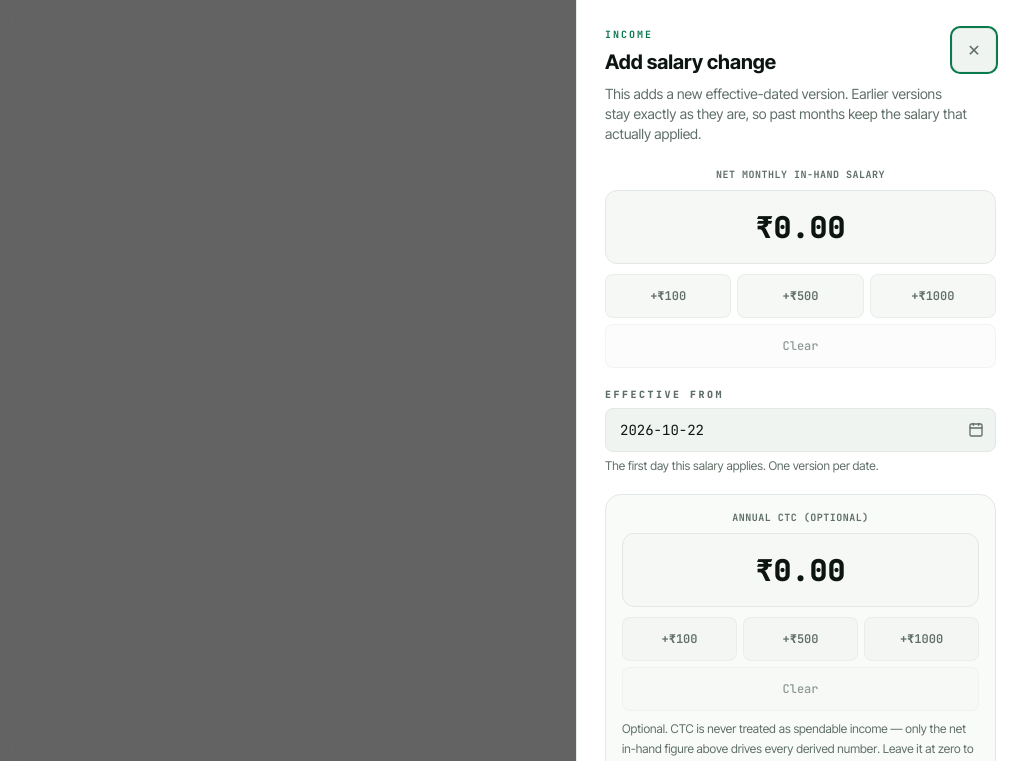
AddSalaryChangeSheet › shows a duplicate-effective-date problem on the date field and focuses it
This screenshot has width=1024, height=761.
Replace the text in the field labelled "Net monthly in-hand salary" with "14000": (800, 227) [605,190,996,264]
(page scrolled)
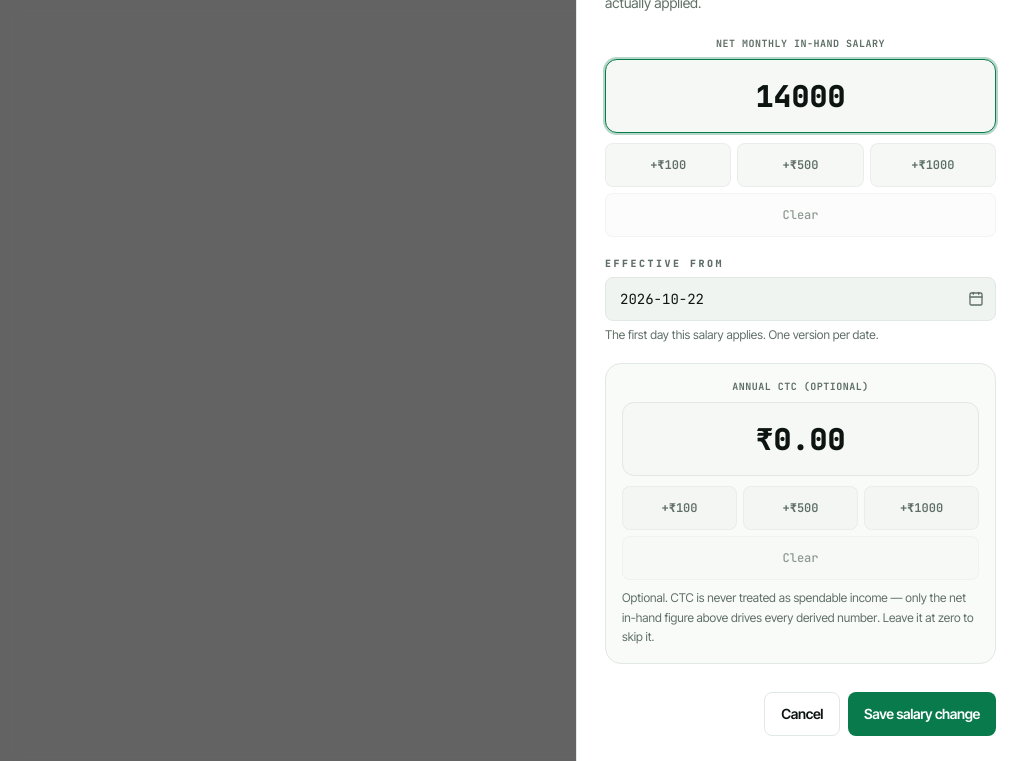
Click the button "Save salary change": click(922, 714) [848,692,996,736]
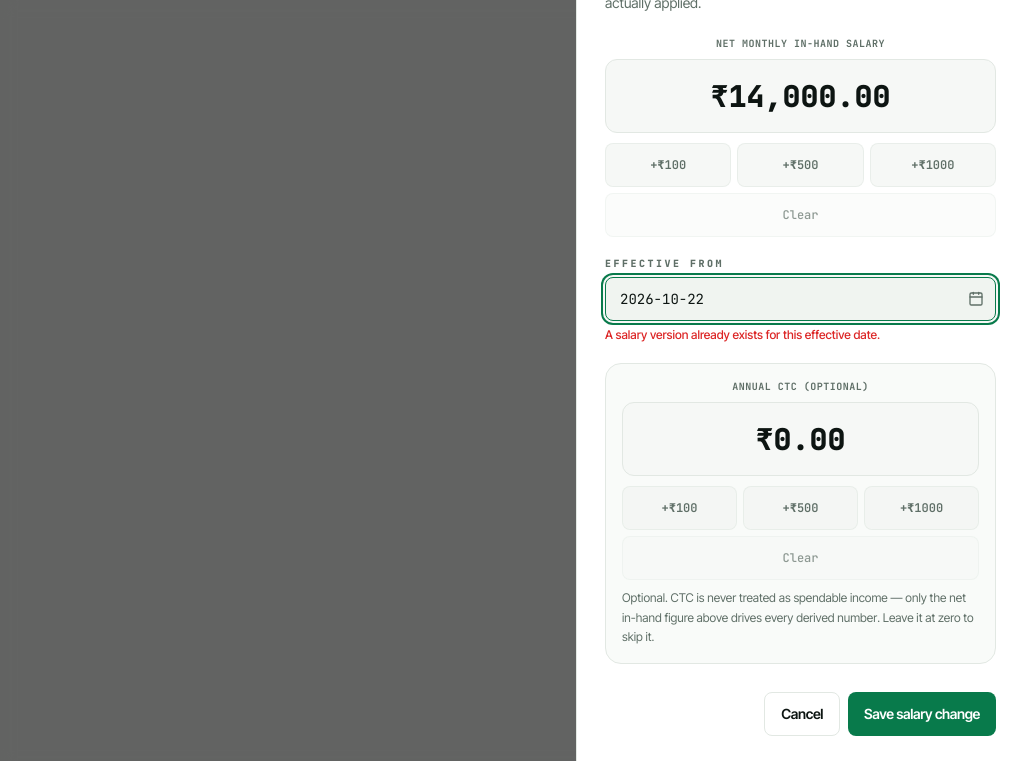
Check: the text "A salary version already exists for this effective date." is shown, box [605,327,880,342]
